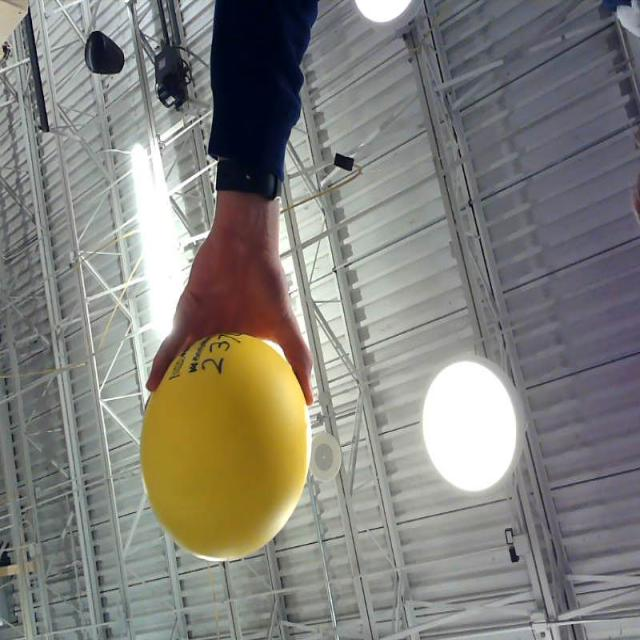Fuel: (140, 332, 310, 558)
